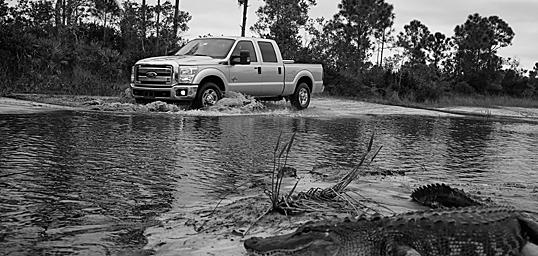car: (129, 38, 326, 114)
